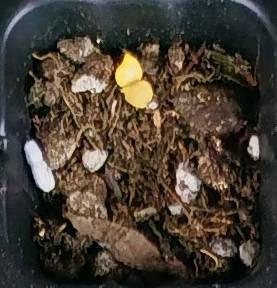chilli seed: (112, 47, 144, 89), (119, 79, 154, 109)
